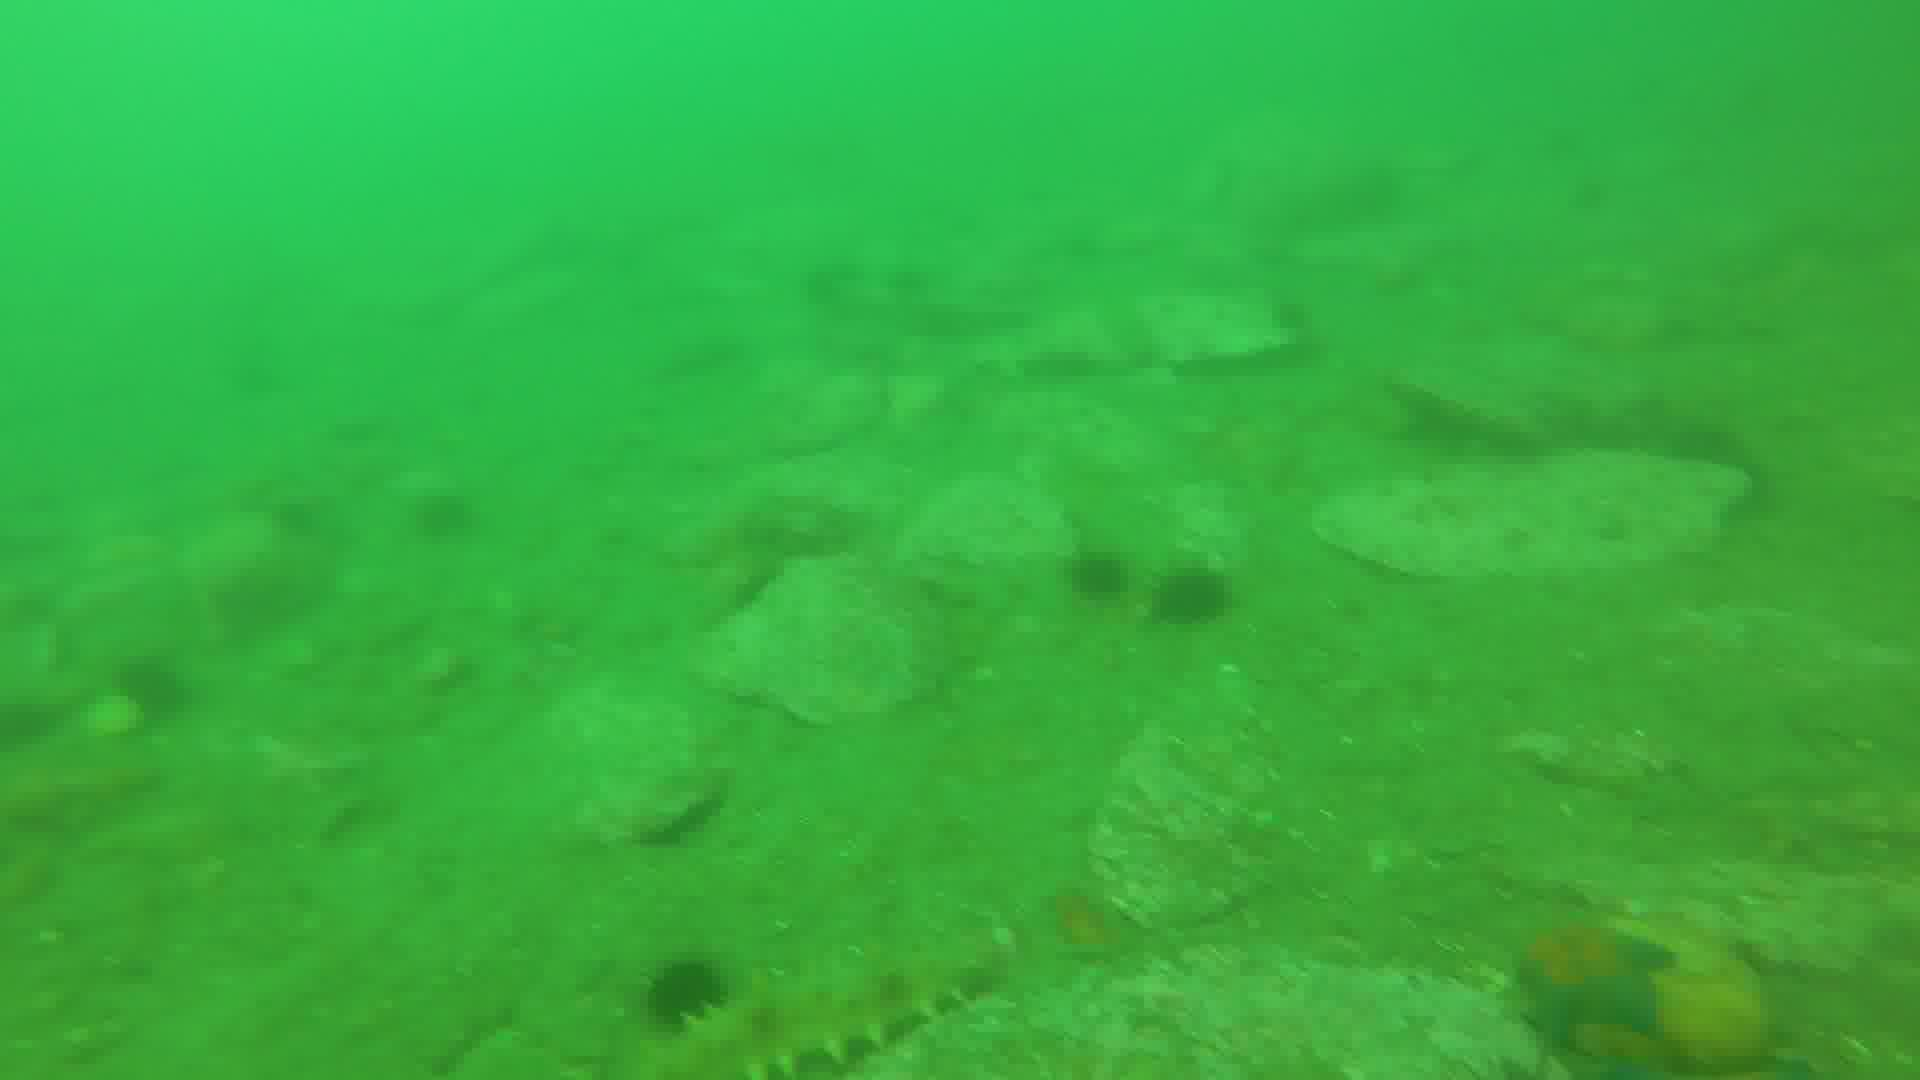echinus: (650, 956, 717, 1033), (1146, 564, 1234, 621), (1064, 549, 1134, 597)
holothurian: (661, 947, 1004, 1080)
starfish: (1511, 913, 1680, 1048)
